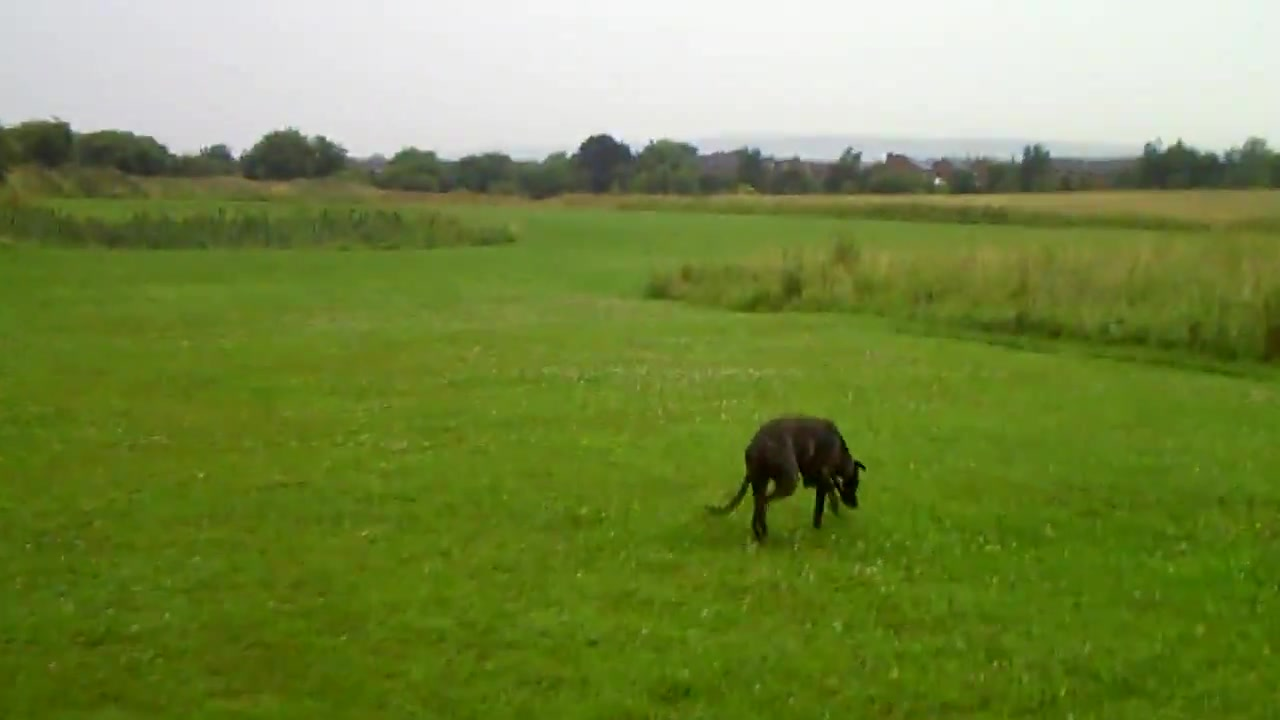dog: (703, 414, 872, 547)
